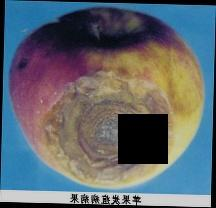rotten apple: (6, 7, 205, 191)
